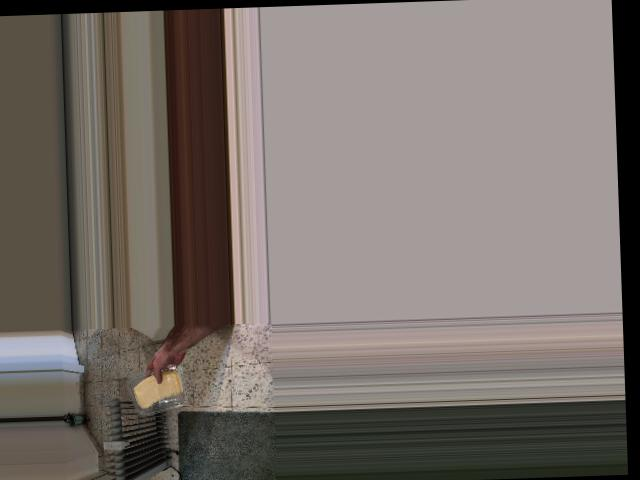cheese: (127, 367, 187, 410)
